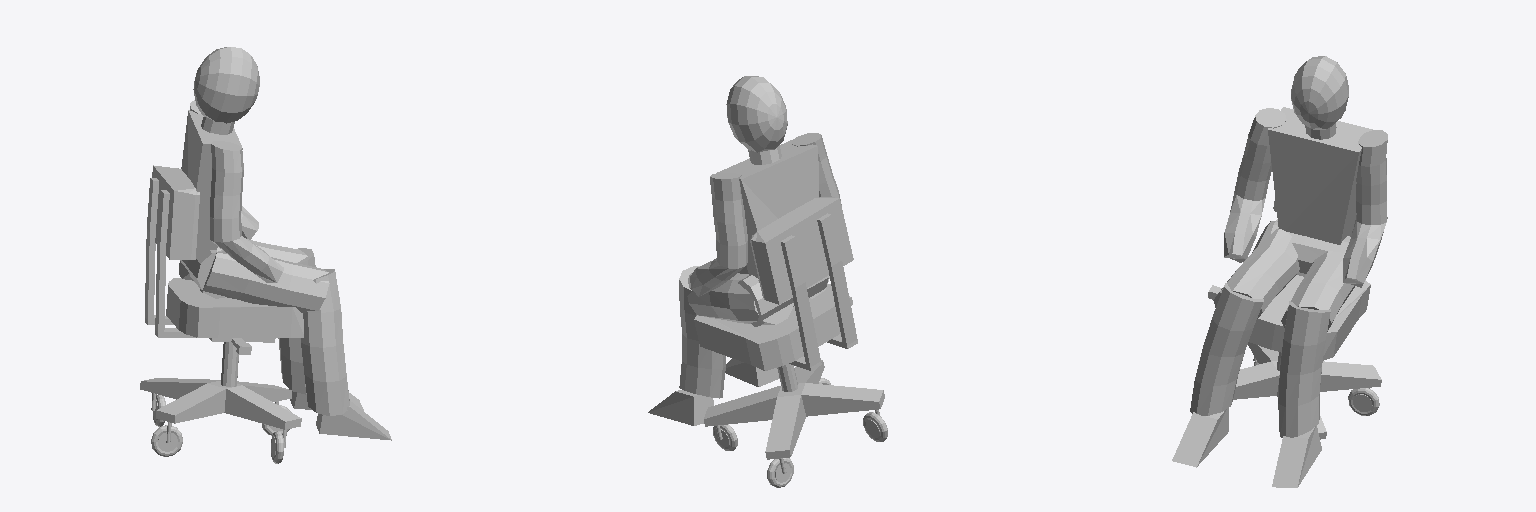
Rendered from Man.obj.
3 views of the same model, side by side, from view 1: azimuth 30°, elevation 25°; view 2: azimuth 150°, elevation 25°; view 3: azimuth 270°, elevation 25° (orthographic).
Visible parts, largest first — view 1: group[number redacted], group[number redacted]; view 2: group[number redacted], group[number redacted]; view 3: group[number redacted], group[number redacted].
Part boxes in pixels (x1,y1,x2,y2): group[number redacted]: (179, 47, 391, 440); group[number redacted]: (140, 165, 303, 463); group[number redacted]: (694, 197, 887, 487); group[number redacted]: (648, 76, 841, 425); group[number redacted]: (1172, 56, 1387, 487); group[number redacted]: (1208, 200, 1381, 439).
Bounding box in the file's own units: 0.4751 × 0.791 × 0.3977.